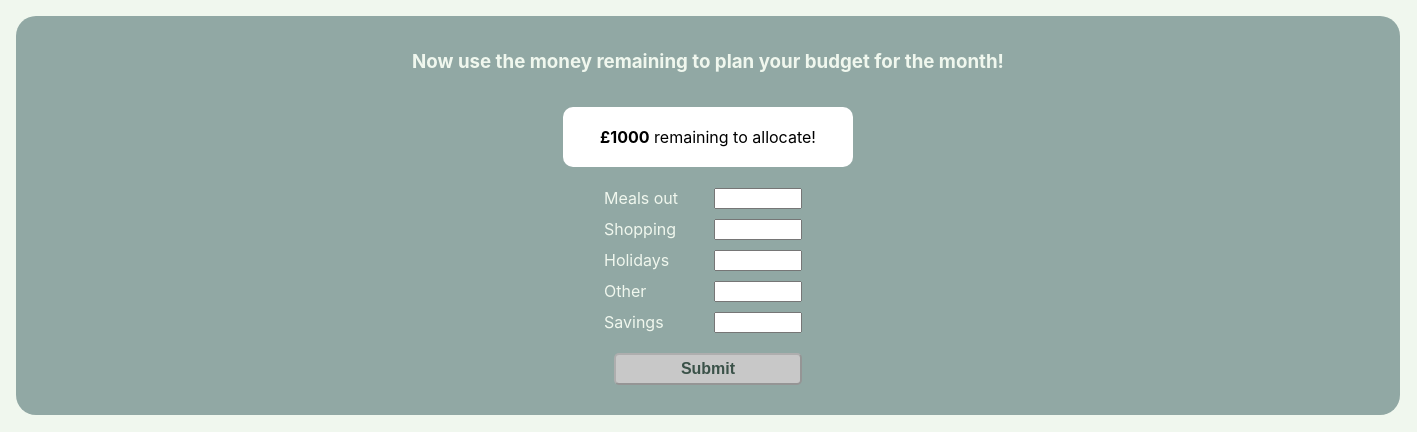
Test case: BudgetPlan › when remaining > 0, amount to remove is displayed
The width and height of the screenshot is (1417, 432).
In the number field with test id "meals-input": (758, 199) [714,188,802,209], type "1100"
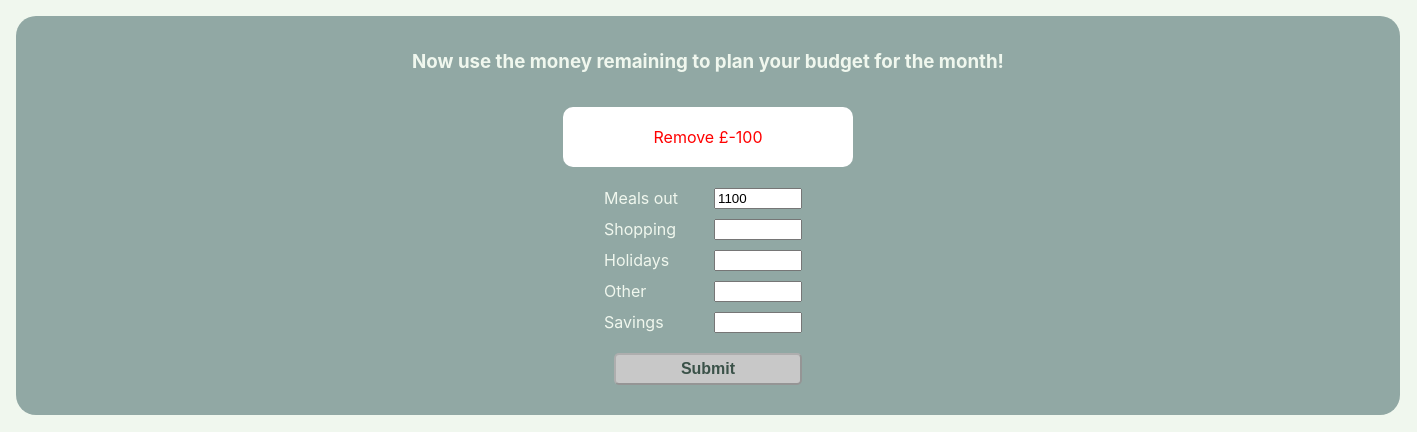
expect the text "Remove £-100" is shown: met, box [563,107,853,167]
